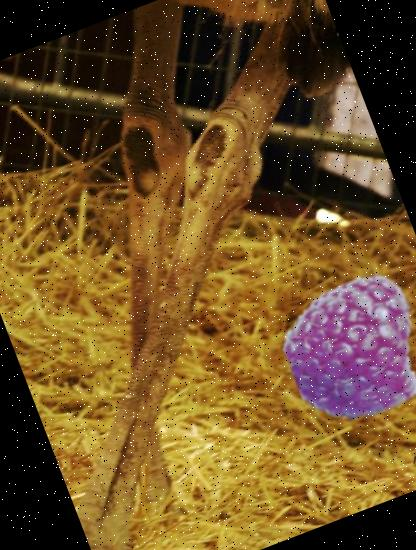Raspberry: (264, 259, 416, 440)
